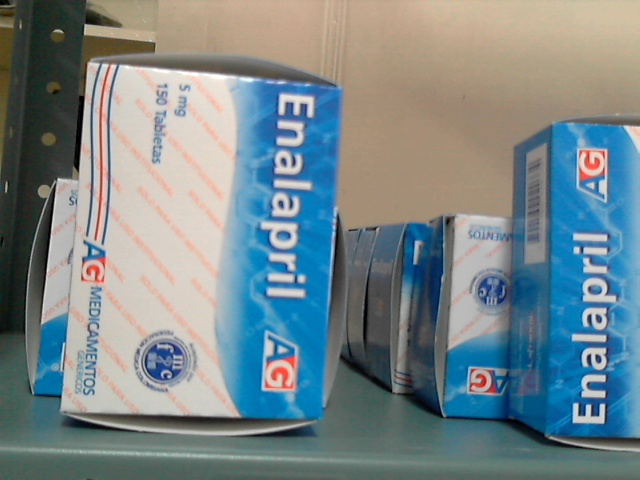AG: (63, 63, 341, 412)
